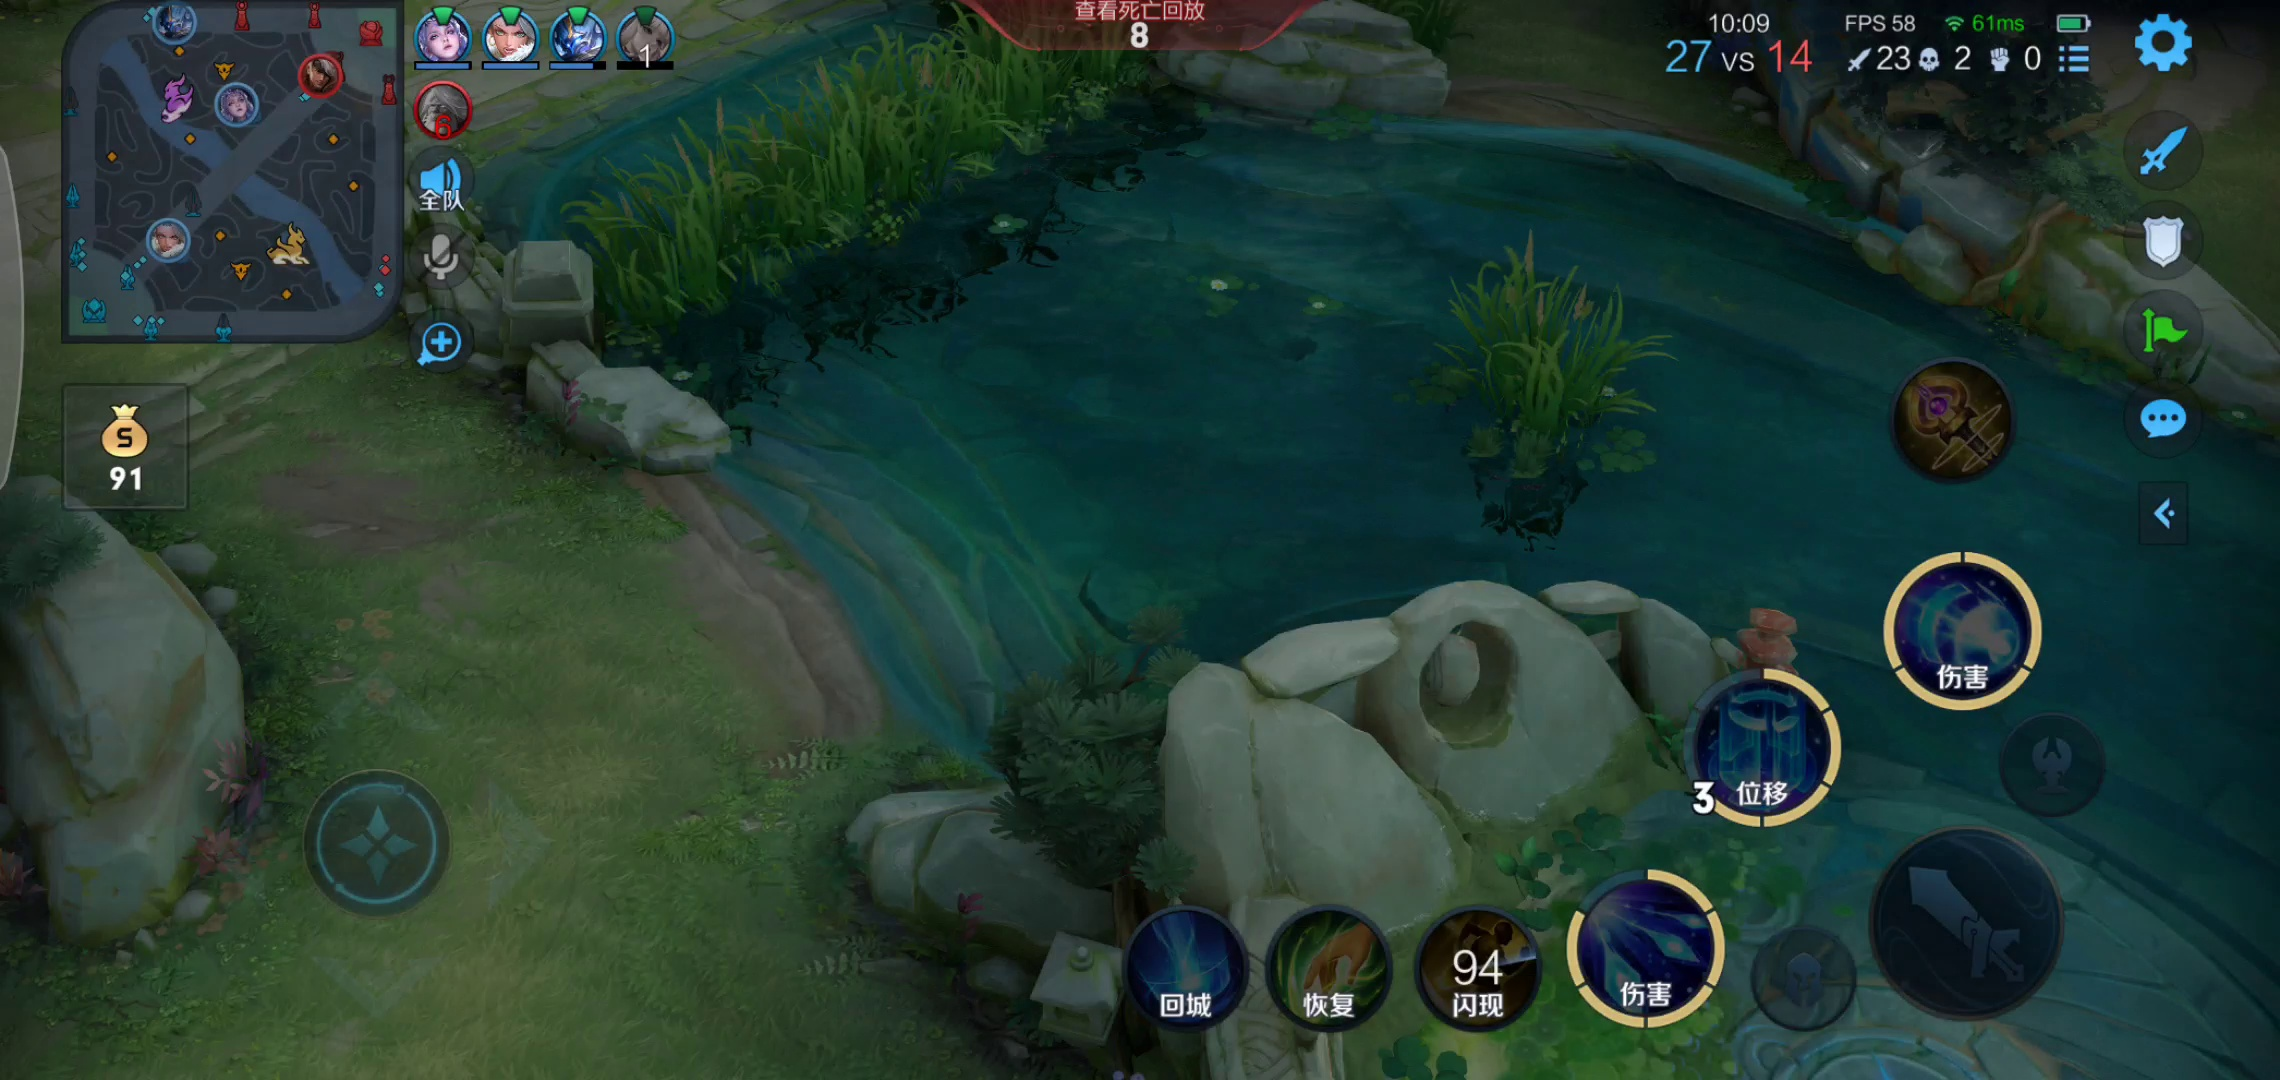grass: (563, 31, 1147, 329), (1429, 241, 1645, 491)
